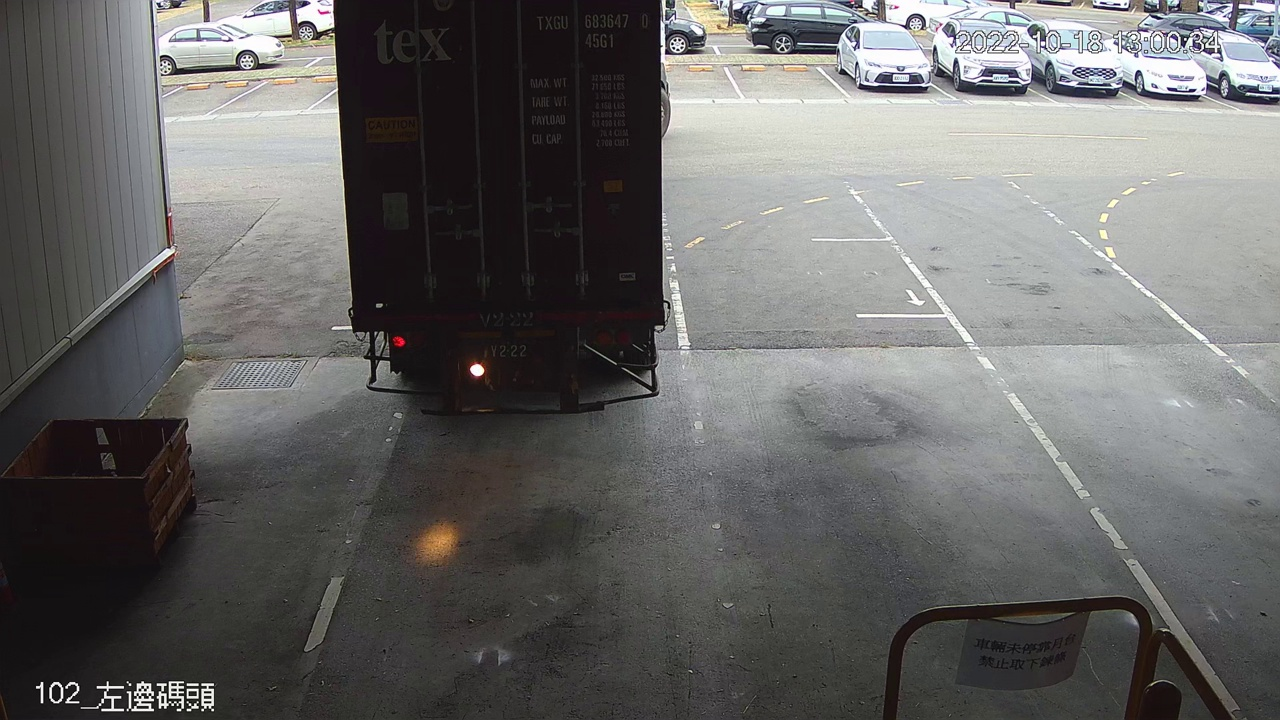container: (527, 8, 652, 54)
